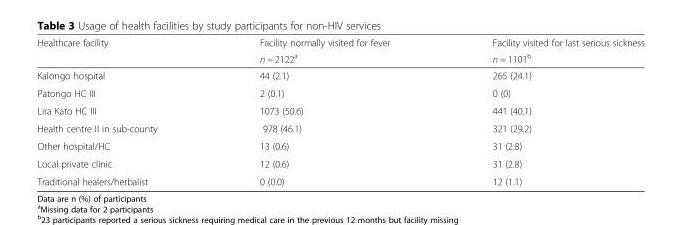table: (36, 36, 643, 186)
table column: (207, 36, 440, 186), (440, 36, 643, 186), (36, 36, 207, 186)
table column header: (36, 36, 643, 66)
table row: (36, 66, 643, 84), (36, 101, 643, 119), (36, 136, 643, 154), (36, 154, 643, 172), (36, 49, 643, 66), (36, 84, 643, 101), (36, 119, 643, 136), (36, 172, 643, 186), (36, 36, 643, 49)
table spanning cell: (207, 36, 440, 66), (440, 36, 643, 66), (36, 36, 207, 66)
